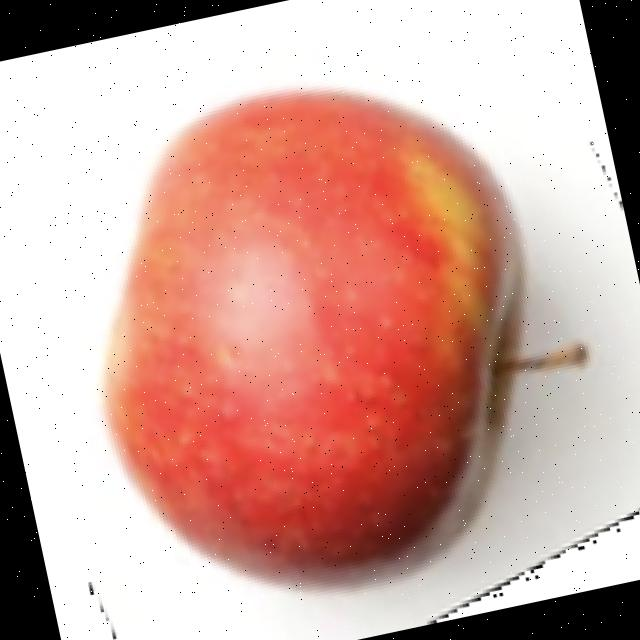apple: (93, 79, 595, 612)
